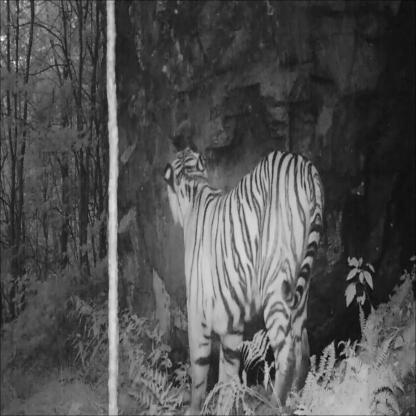Tiger: (135, 112, 337, 406)
